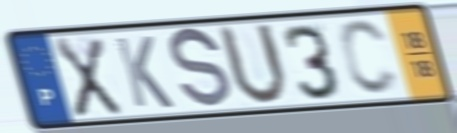3: (283, 21, 342, 102)
C: (336, 17, 403, 98)
K: (112, 34, 178, 111)
S: (168, 24, 234, 114)
U: (214, 21, 290, 109)
X: (50, 35, 125, 120)
